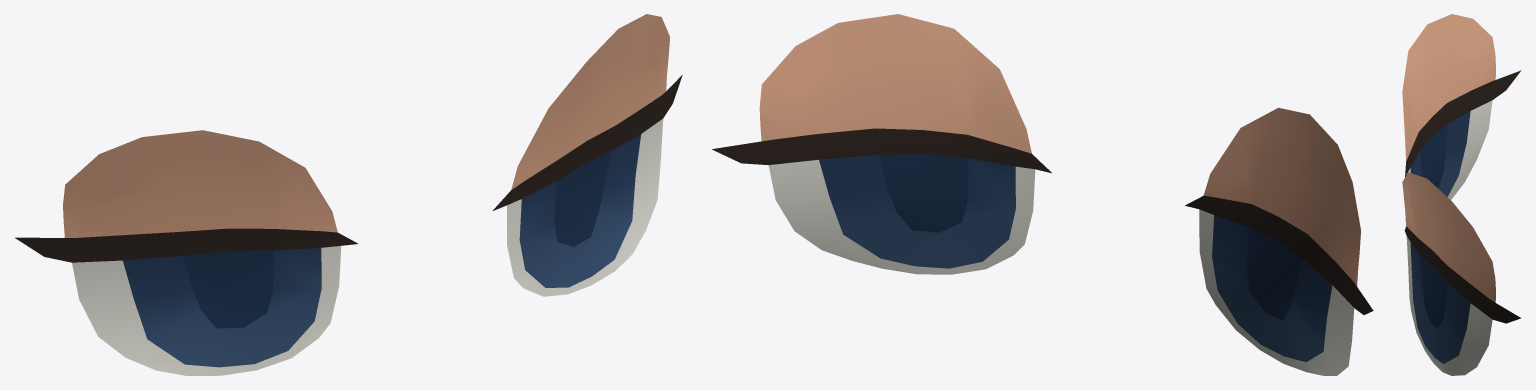
The model's file is Eye_BlueB_2.fbx.
3 renders of one model, left to right at view 1: azimuth 30°, elevation 25°; view 2: azimuth 150°, elevation 25°; view 3: azimuth 270°, elevation 25°, orthographic. The views are drawn at different scales.
Parts seen in each view (by area): view 1: Eye_BlueB_2; view 2: Eye_BlueB_2; view 3: Eye_BlueB_2.
Boxes of the visible parts, bbox=[...] form: Eye_BlueB_2: bbox=[15, 14, 682, 375]; Eye_BlueB_2: bbox=[712, 14, 1373, 375]; Eye_BlueB_2: bbox=[1402, 14, 1521, 375].
Size of the model in its own units: 41.23 by 14.98 by 8.38.
